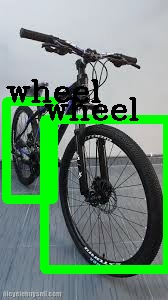wheel: (44, 119, 167, 269), (6, 101, 53, 199)
